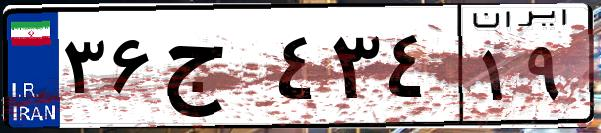1: (475, 38, 525, 113)
3: (330, 28, 385, 110), (57, 26, 110, 100)
4: (270, 28, 330, 110), (385, 28, 445, 110)
6: (110, 28, 158, 98)
9: (525, 38, 570, 115)
ج: (158, 20, 270, 120)
